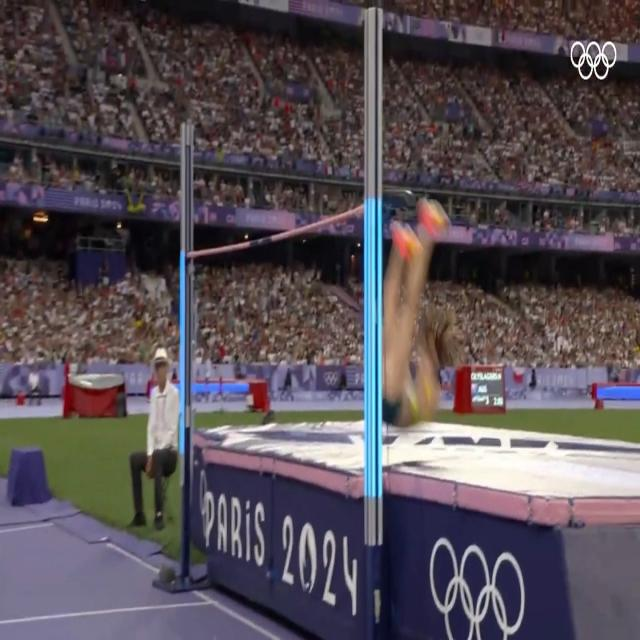land: (382, 201, 458, 425)
